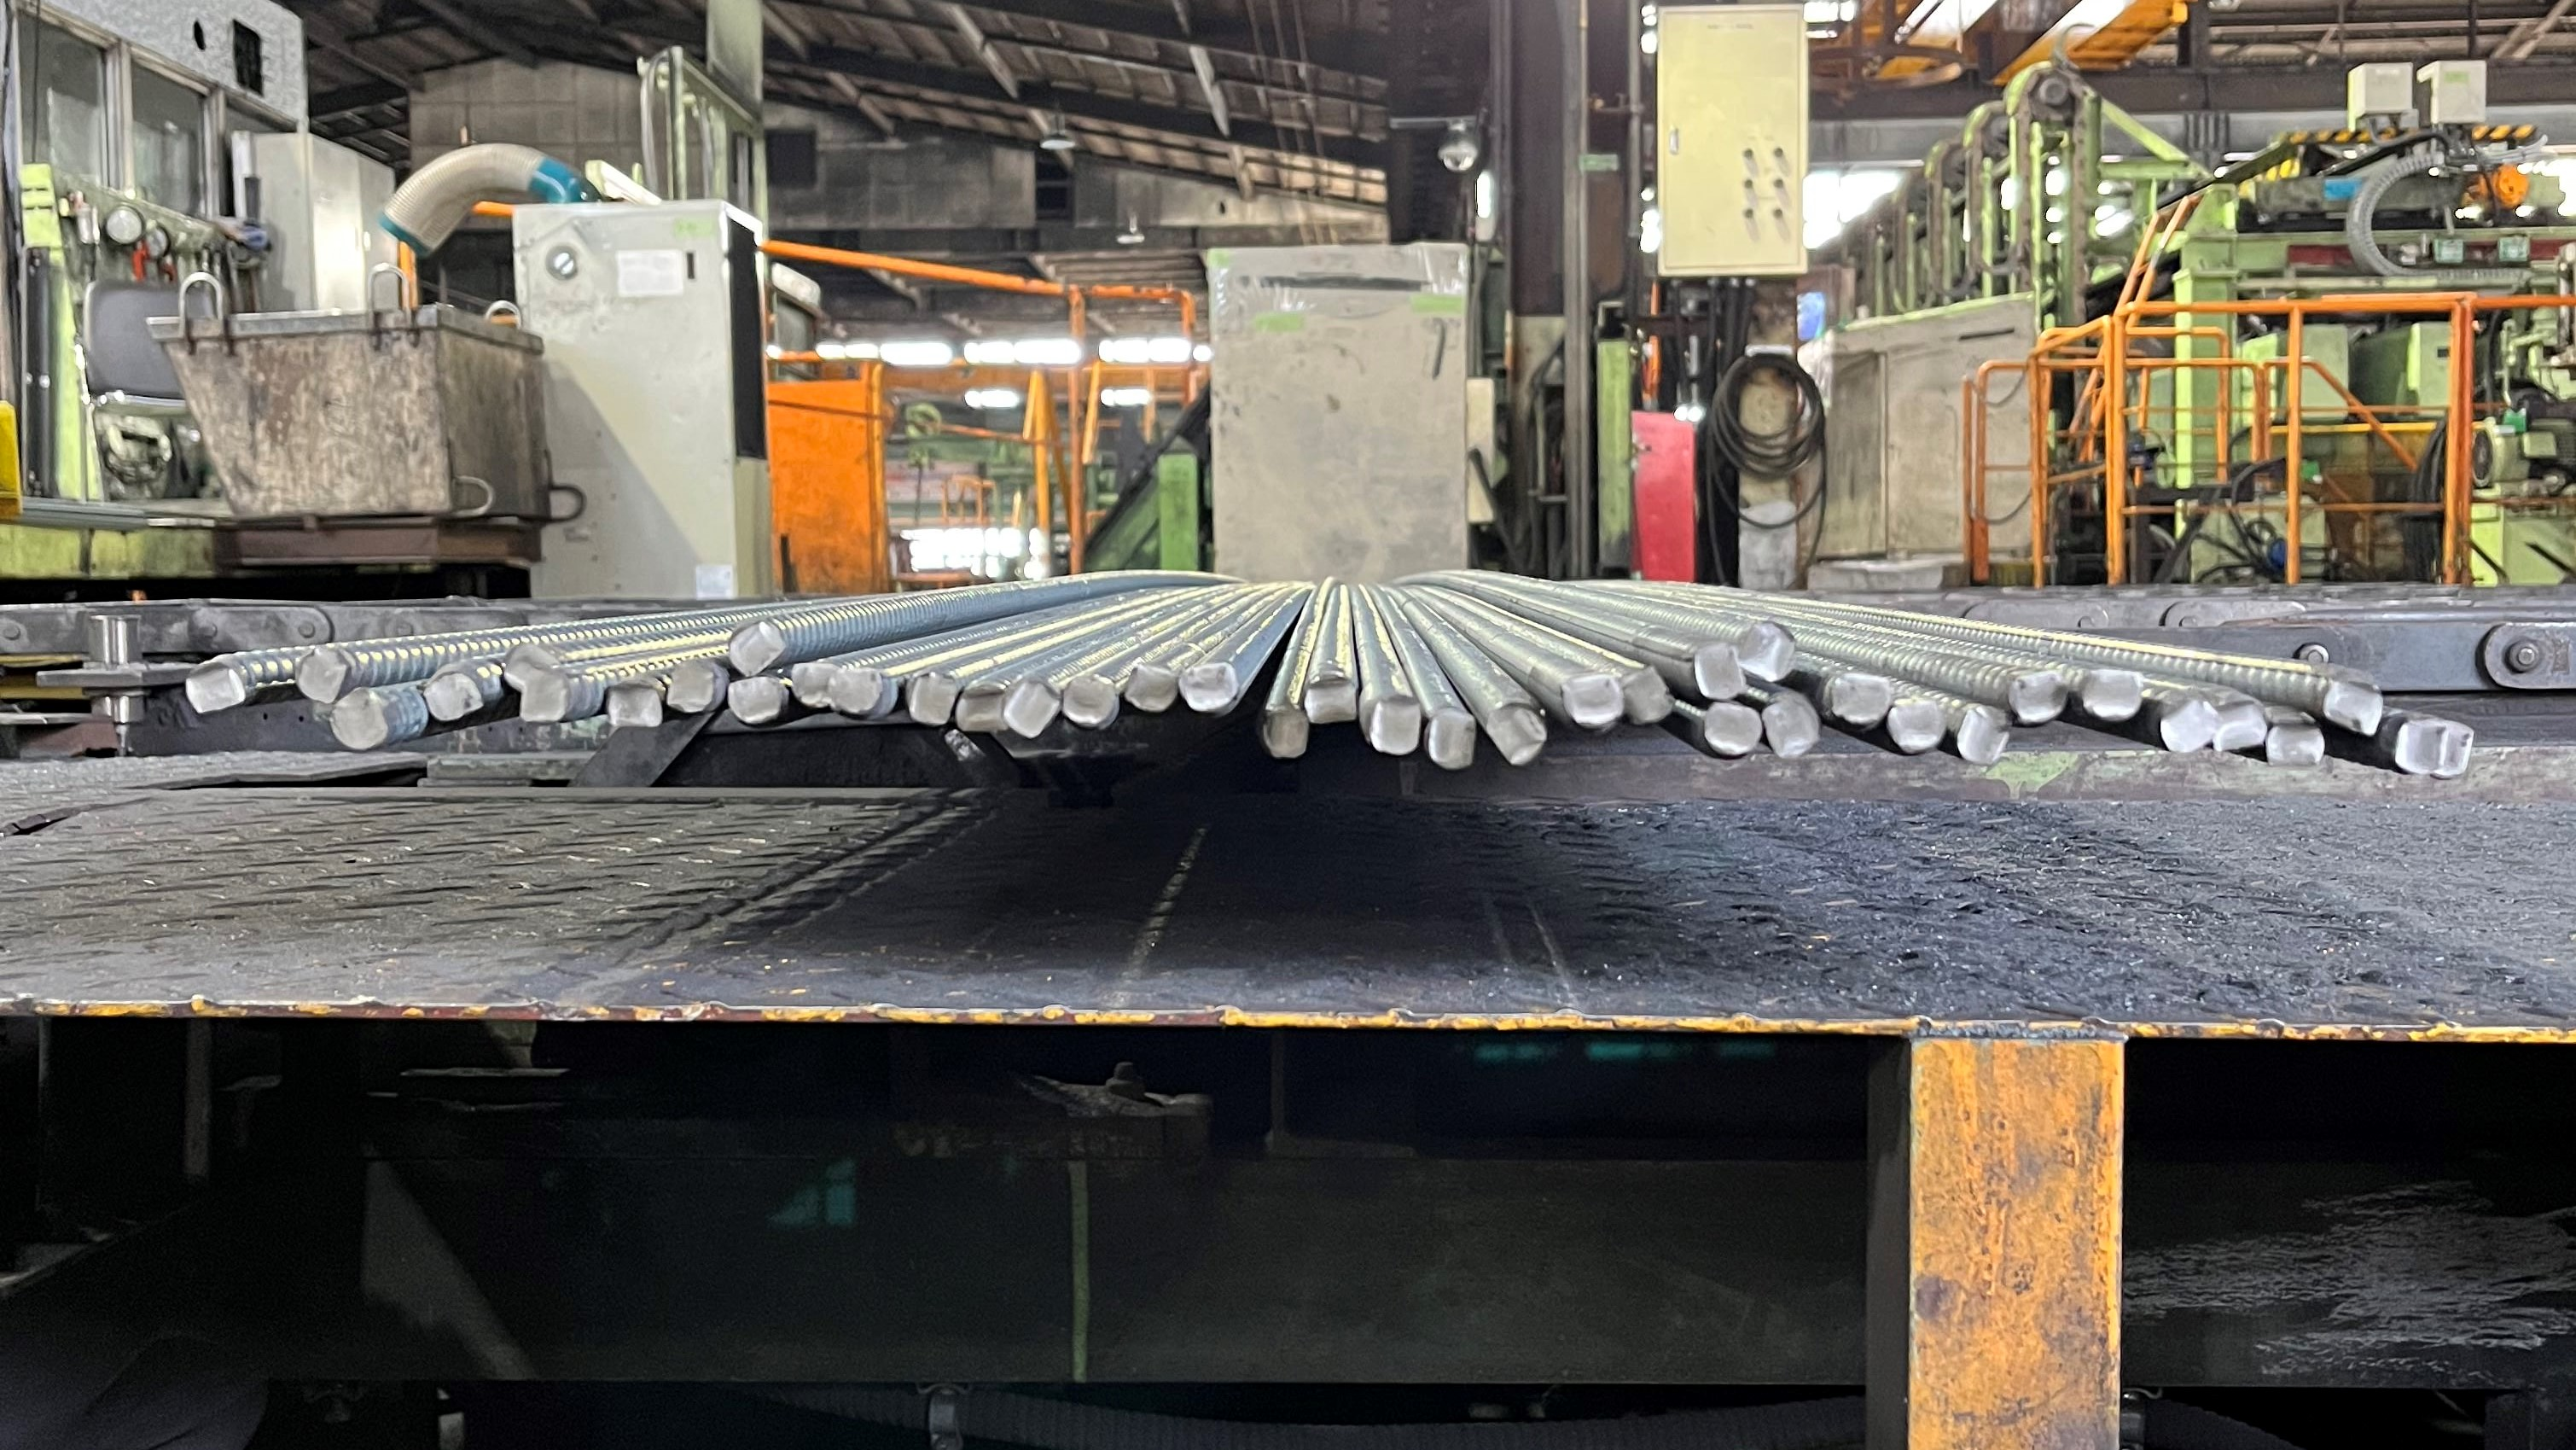rod: (1730, 616, 1801, 687), (326, 683, 389, 754), (1484, 703, 1550, 767), (2318, 676, 2385, 738), (1060, 673, 1125, 735), (2079, 667, 2150, 724), (1824, 669, 1897, 724), (1760, 698, 1822, 760), (1955, 699, 2010, 768), (1003, 676, 1062, 740), (1560, 671, 1624, 729), (2158, 692, 2222, 751), (180, 657, 246, 713), (2005, 667, 2070, 724), (600, 676, 667, 731), (1690, 641, 1748, 703), (2210, 696, 2272, 754), (1621, 664, 1677, 728), (1882, 696, 1946, 752), (2263, 713, 2328, 768), (515, 669, 575, 728), (1698, 701, 1760, 758), (2390, 713, 2447, 775), (826, 662, 890, 717), (1369, 694, 1424, 758), (1178, 660, 1240, 715), (294, 643, 347, 706), (423, 671, 487, 724), (725, 676, 789, 729), (1426, 708, 1477, 774), (1120, 660, 1178, 717), (904, 669, 959, 728), (667, 657, 720, 717), (501, 637, 559, 690), (1258, 703, 1311, 761), (1304, 673, 1357, 729), (955, 682, 1005, 737), (789, 660, 835, 712), (2442, 715, 2475, 783)
